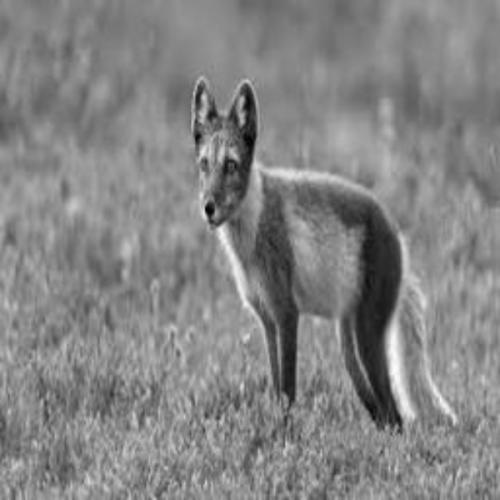arctic_fox-endangered: (191, 78, 460, 430)
